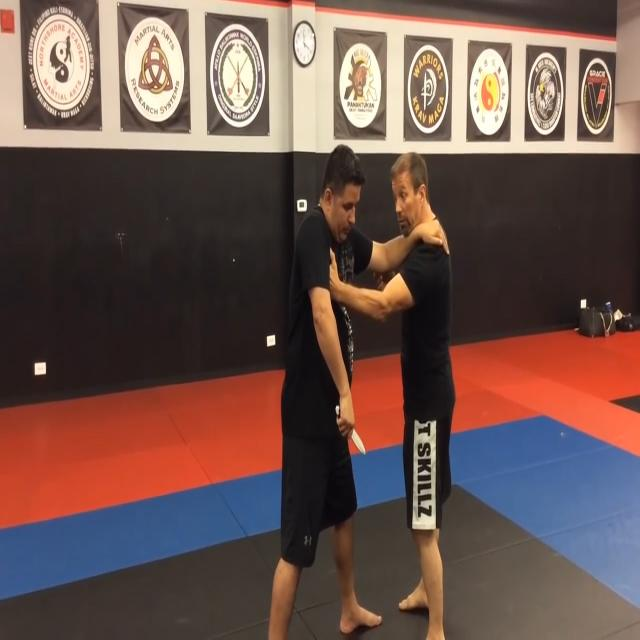knife: (351, 423, 370, 461)
